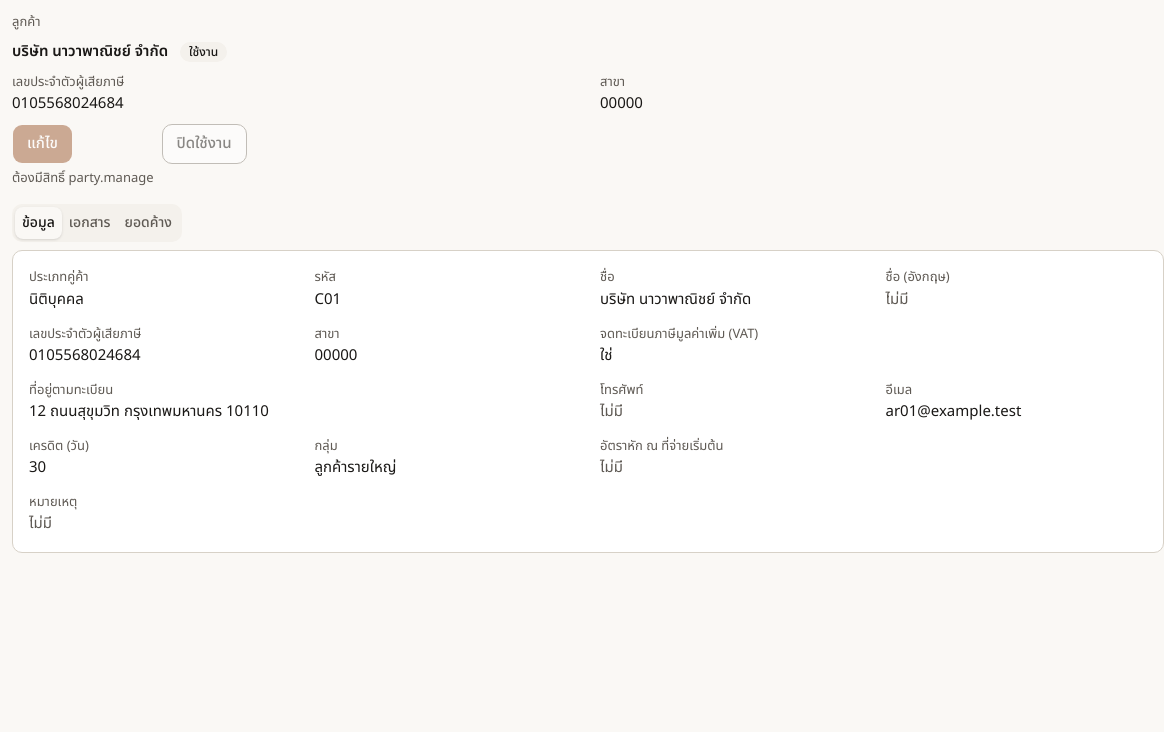
Test case: RecordView › a role without document read sees "forbidden" on the open-items tab, never "nothing outstanding"
What coordinates should you click on to do the following:
click the tab "ยอดค้าง"
I would click on:
 (148, 223)
Its box is [118, 207, 179, 239].
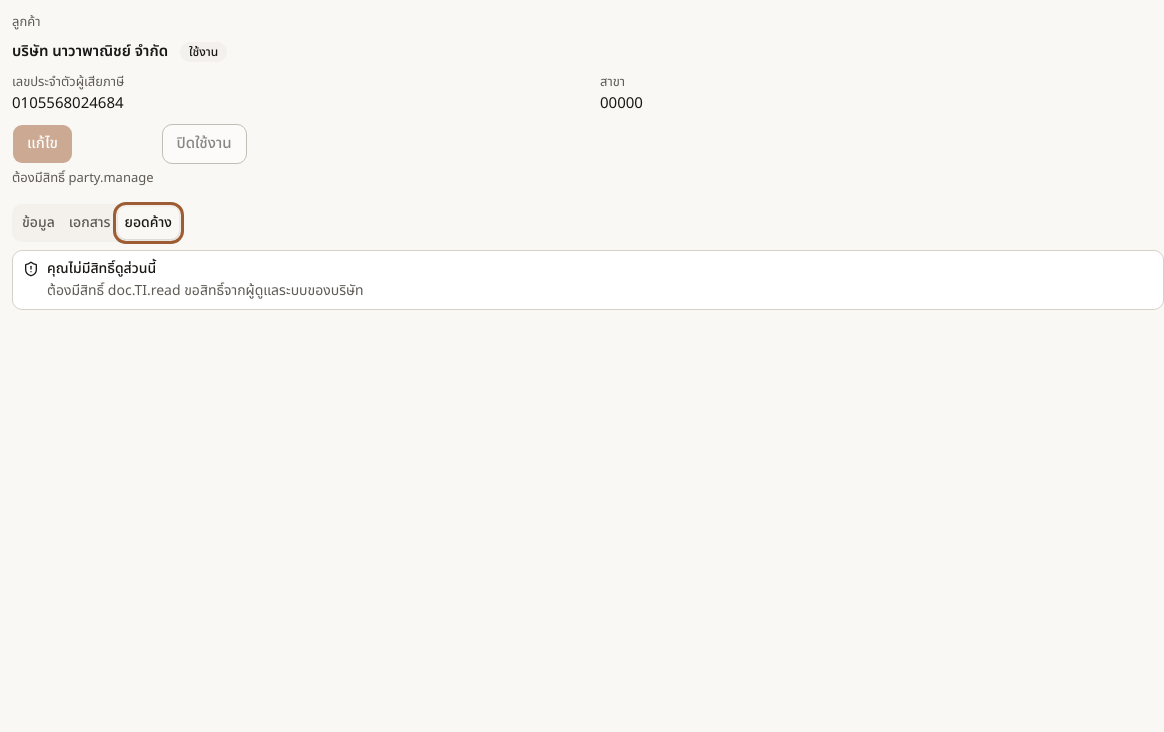
Expected: the button "แก้ไข" is disabled, [12, 124, 73, 164]
Expected: the message is shown, [12, 250, 1163, 310]
